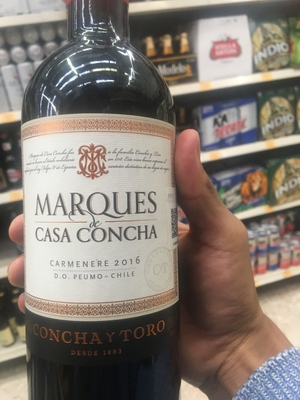marques de casa concha carmenere: (16, 18, 204, 400)
